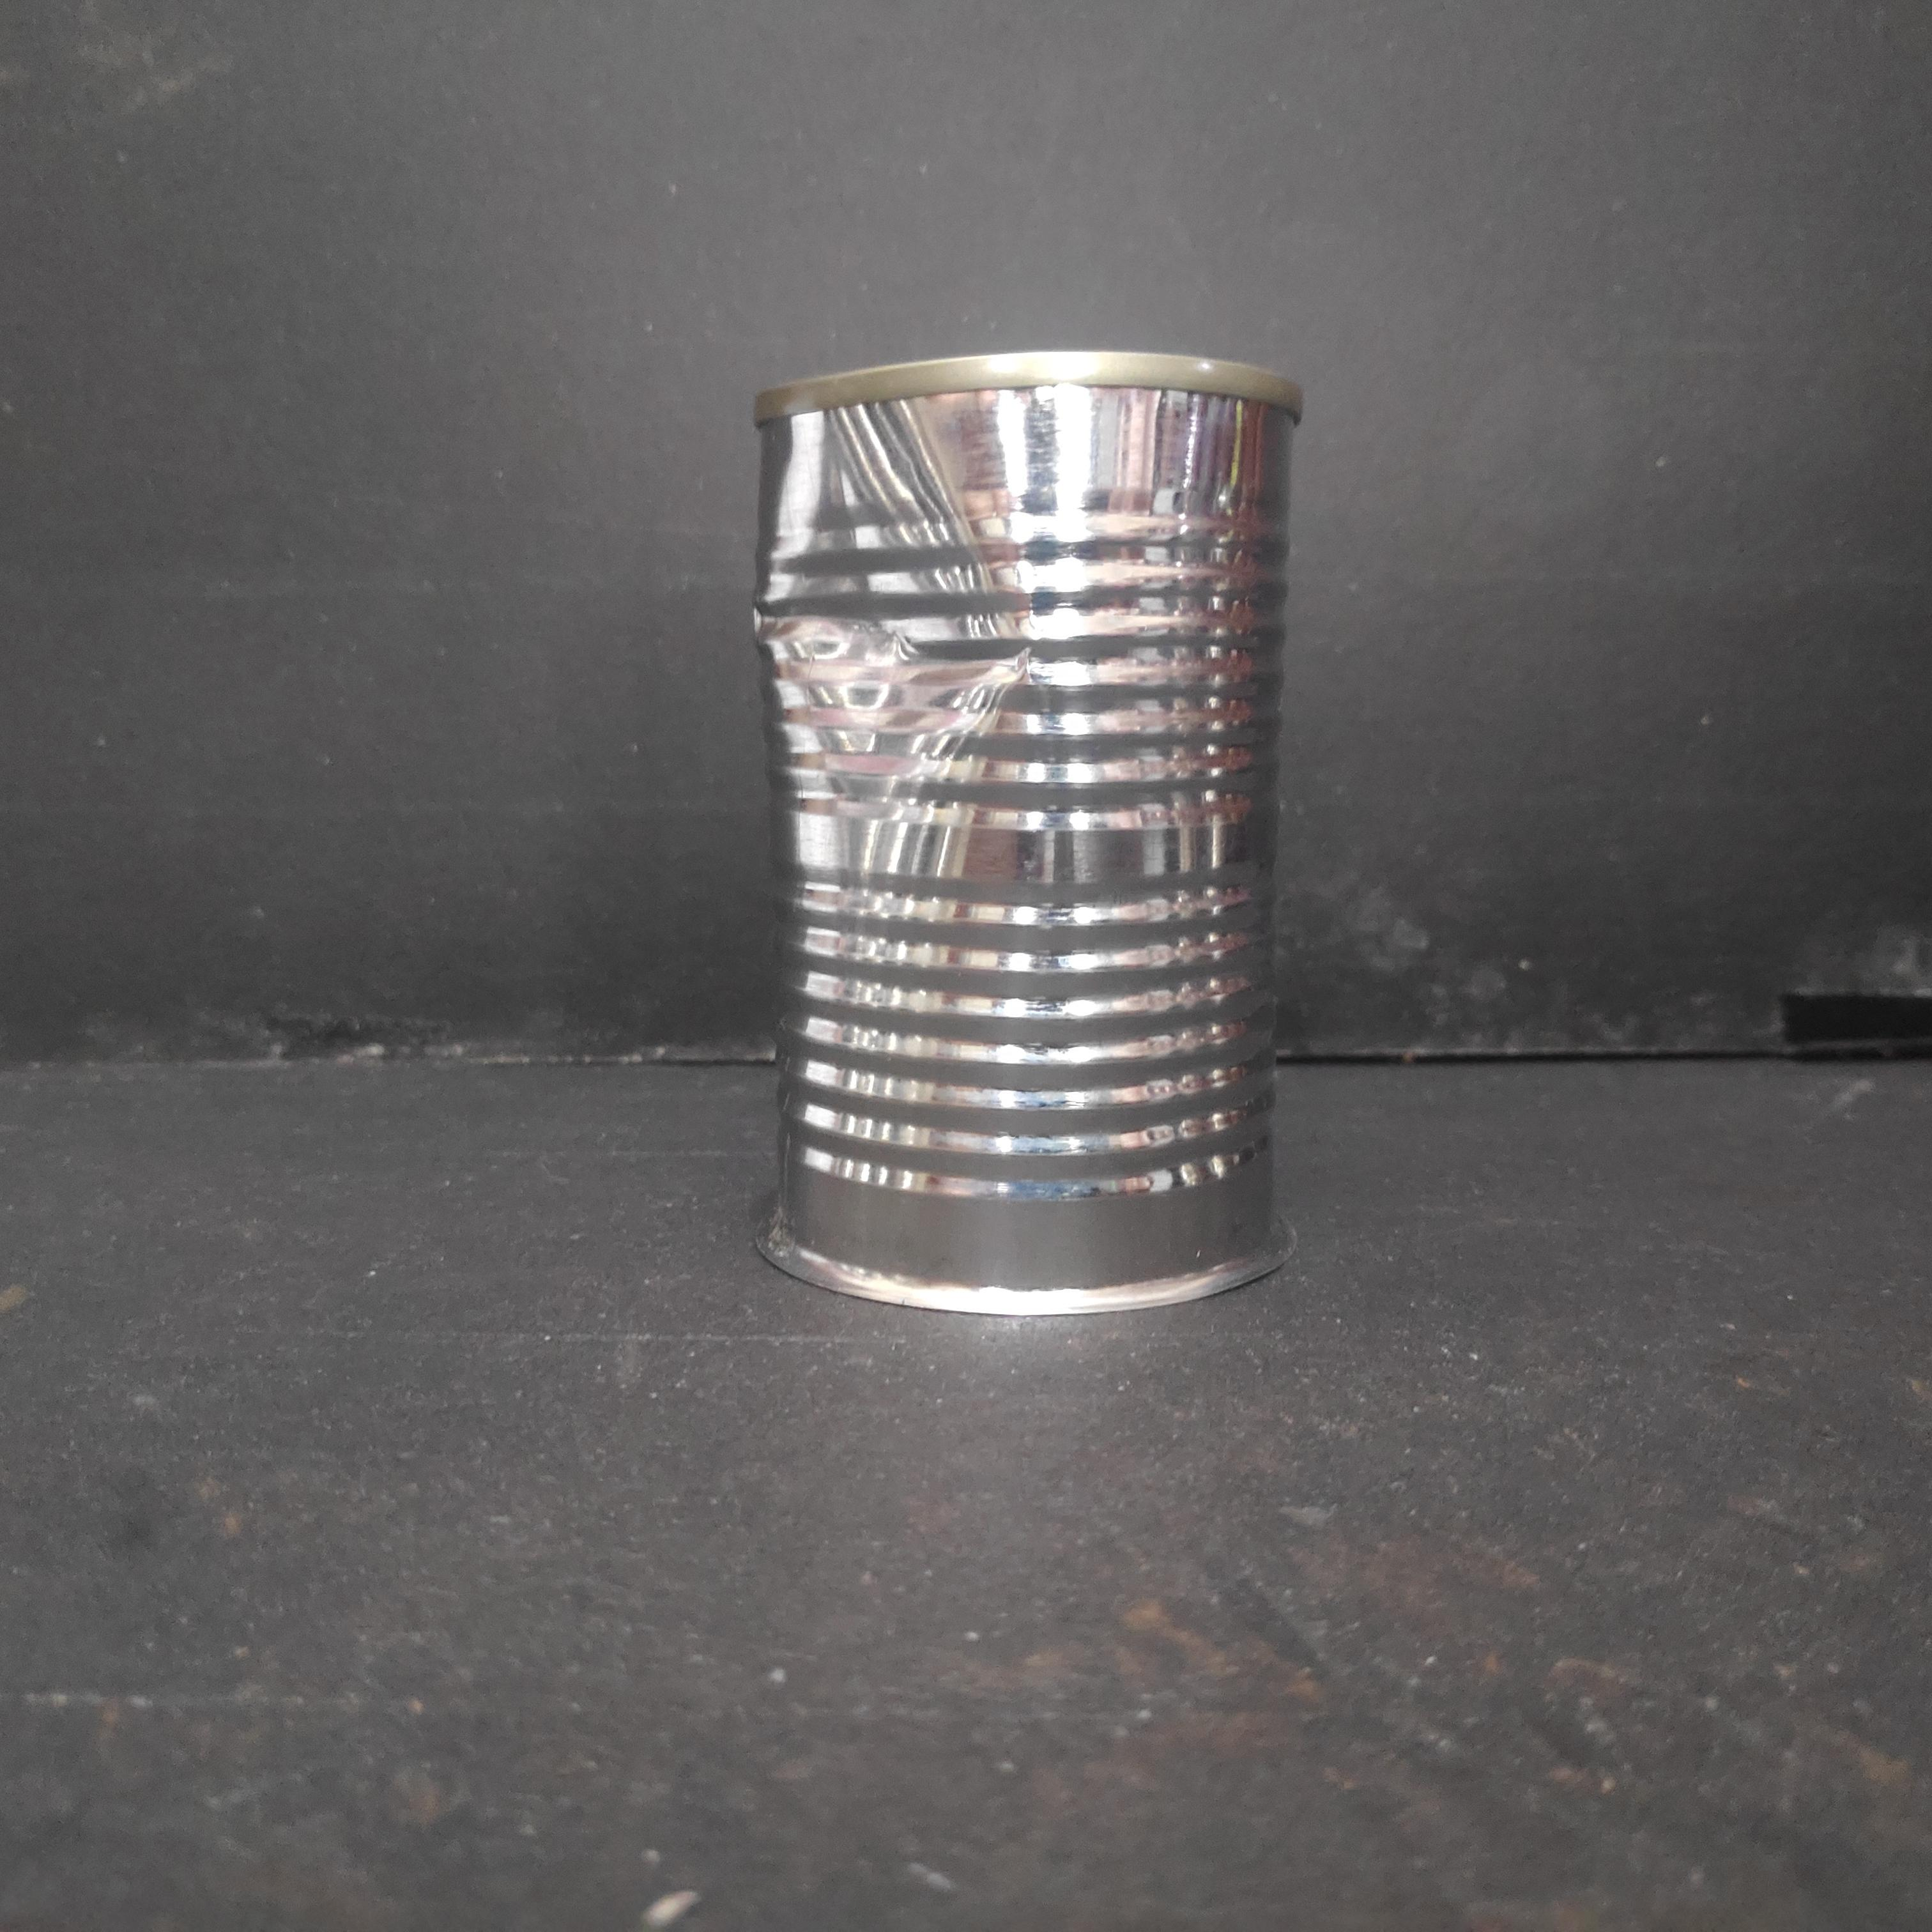Minor Defect: (740, 333, 1315, 1338)
